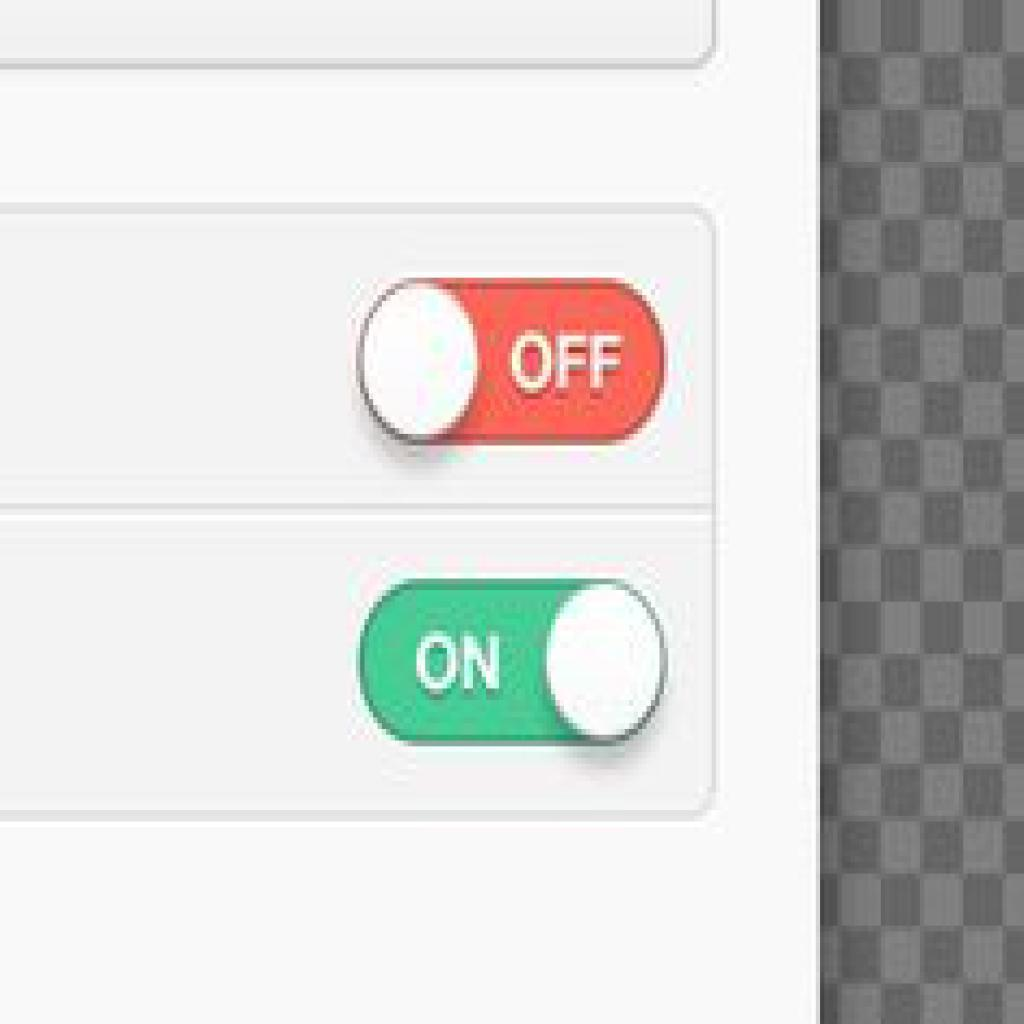switch: (362, 278, 669, 446), (359, 582, 667, 746)
